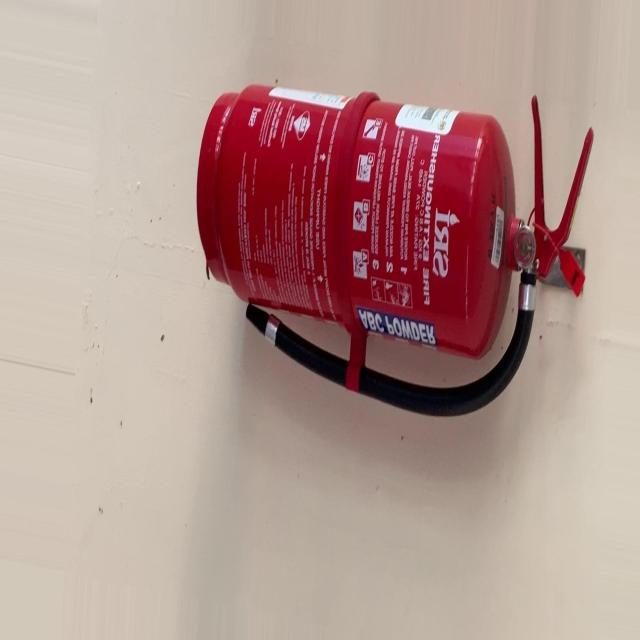fire_extinguisher: (190, 80, 601, 422)
